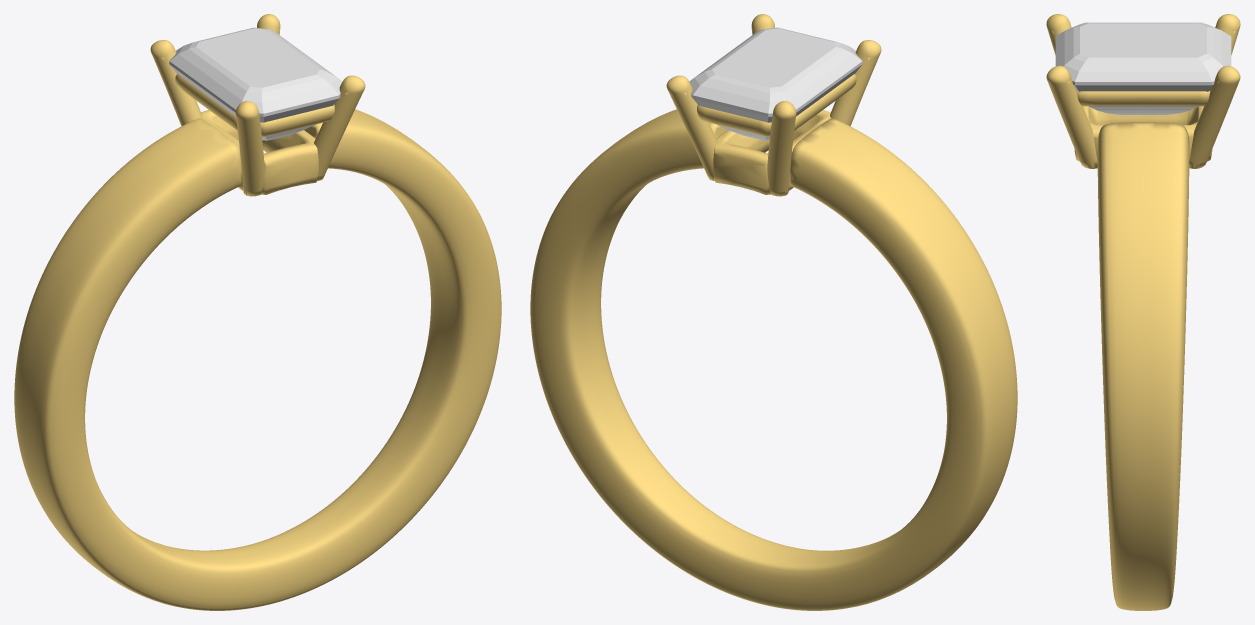
Rendered from diamond-emerald-yellowgold-4prong-straighttaperedband-solitaire.glb.
The picture shows the model from 3 angles, left to right: view 1: azimuth 30°, elevation 25°; view 2: azimuth 150°, elevation 25°; view 3: azimuth 270°, elevation 25°; orthographic projection.
Parts seen in each view (by area): view 1: metal.003, stone; view 2: metal.003, stone; view 3: metal.003, stone.
Boxes of the visible parts, left/top/right/bottom form: metal.003: left=14, top=14, right=501, bottom=610; stone: left=169, top=27, right=342, bottom=140; metal.003: left=530, top=14, right=1017, bottom=610; stone: left=689, top=27, right=862, bottom=140; metal.003: left=1046, top=14, right=1240, bottom=610; stone: left=1055, top=22, right=1231, bottom=114.
Size of the model in its own units: 20.51 by 22.95 by 7.4.
